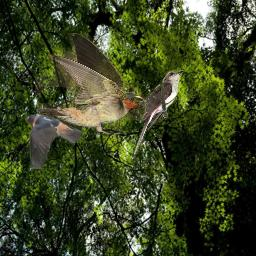Cuckoo: (134, 70, 185, 155)
Swallow: (35, 33, 147, 135), (25, 112, 85, 169)
